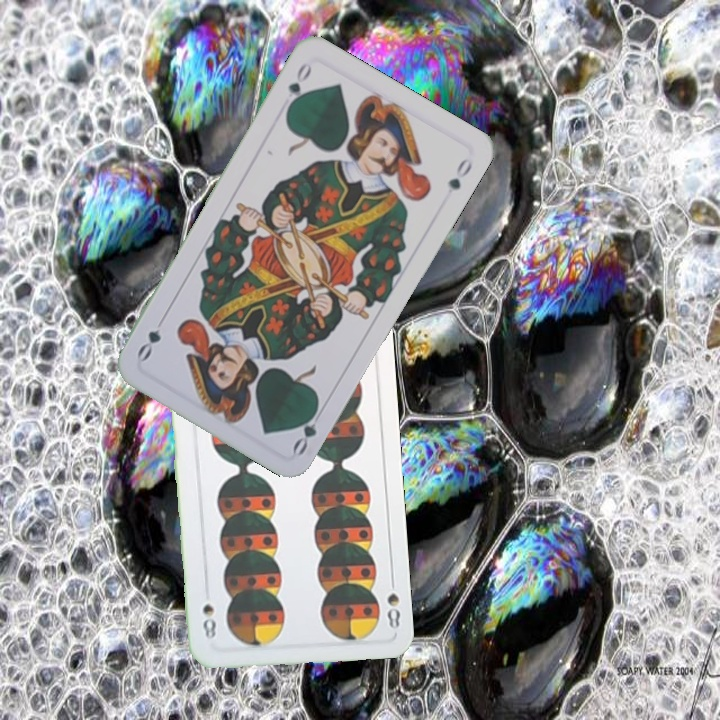GO: (288, 400, 327, 458), (282, 58, 315, 114)
S8: (383, 572, 403, 632)
